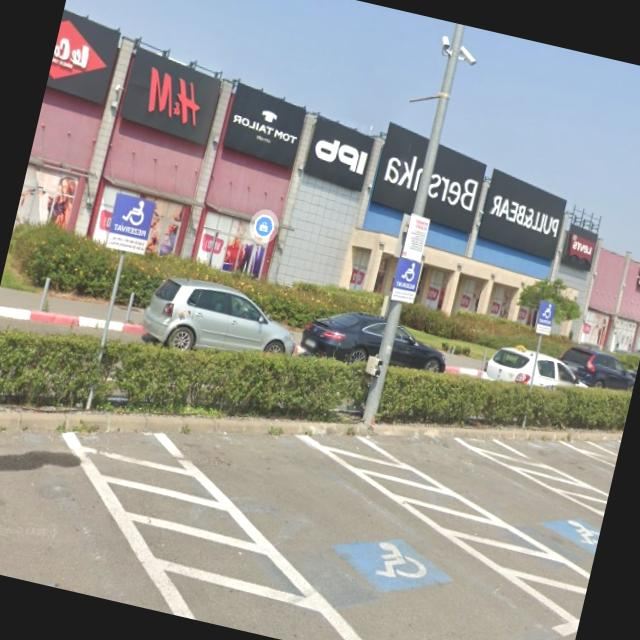symbol_of_access: (115, 194, 152, 228), (397, 256, 420, 284), (538, 300, 554, 320)
